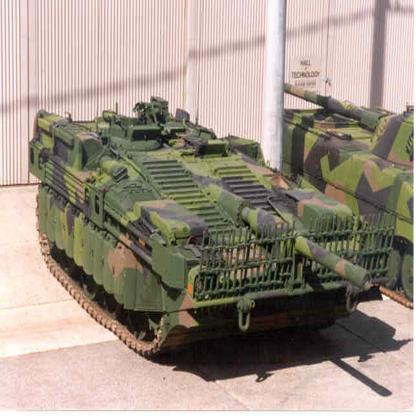Tank: (30, 105, 395, 358)
